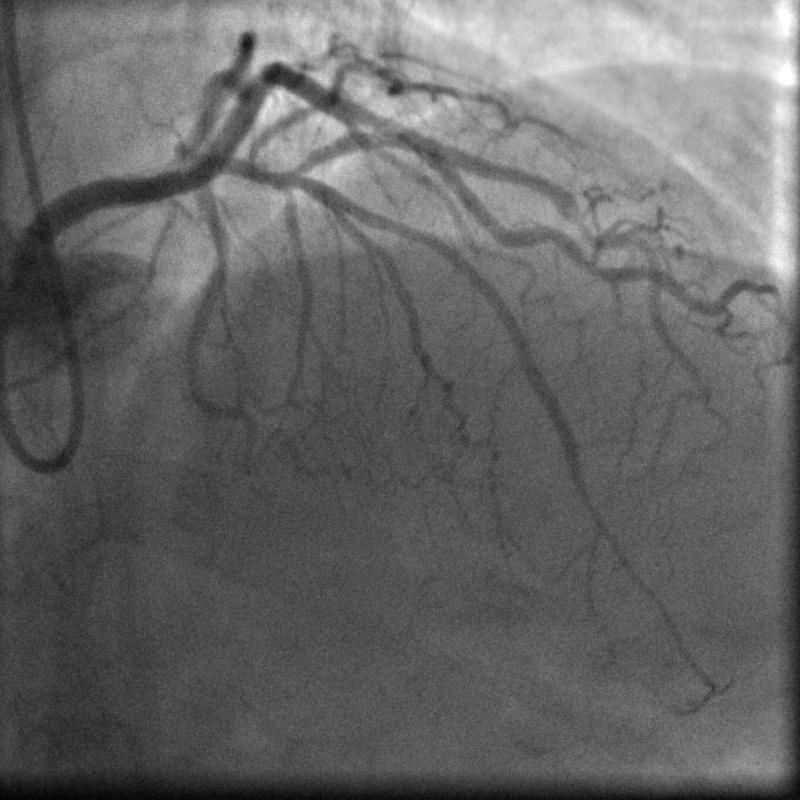Stenosis: (385, 120, 433, 161)
